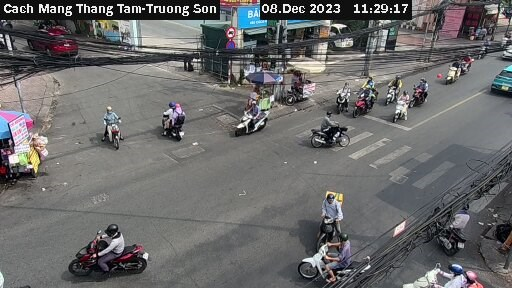car: (487, 61, 512, 95), (500, 41, 512, 61)
motorbike: (67, 226, 158, 279), (419, 198, 471, 247), (296, 242, 359, 282), (307, 111, 358, 151), (152, 106, 198, 149), (233, 104, 285, 141), (314, 204, 355, 249), (398, 259, 458, 288), (95, 115, 138, 153), (329, 82, 355, 115), (389, 97, 414, 126), (380, 81, 404, 108), (408, 81, 433, 106), (350, 88, 372, 116), (442, 61, 459, 89)
